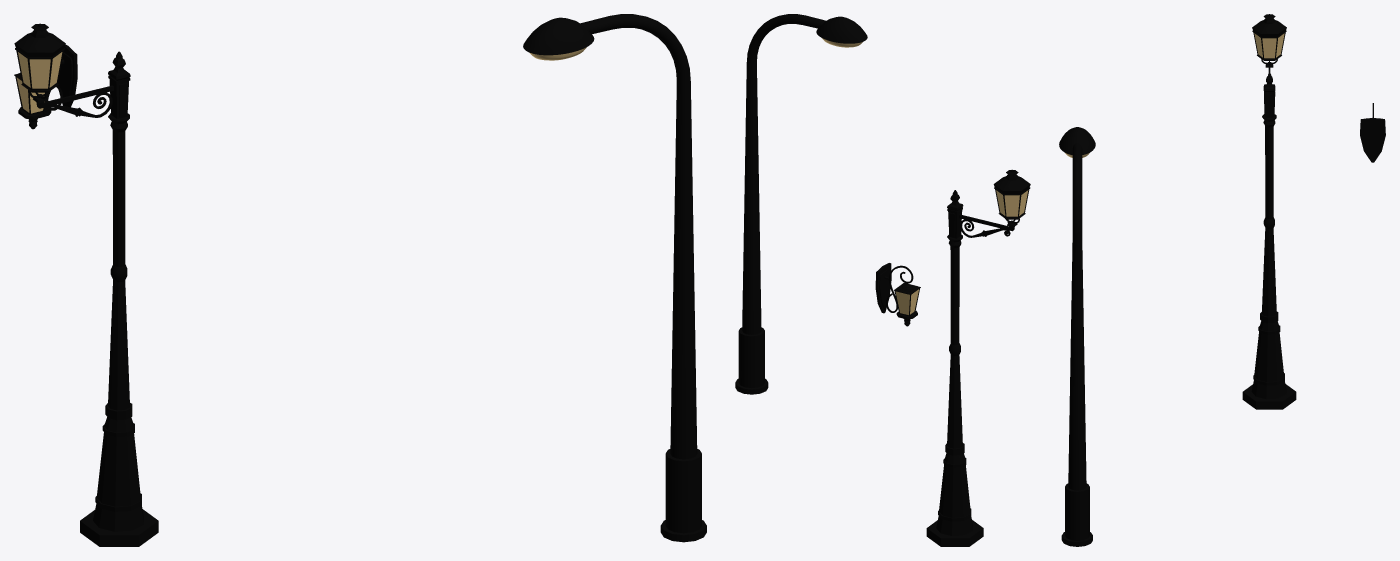
Rendered from lyktor.gltf.
The picture shows the model from 3 angles, left to right: view 1: azimuth 30°, elevation 25°; view 2: azimuth 150°, elevation 25°; view 3: azimuth 270°, elevation 25°; orthographic projection. The views are drawn at different scales.
Visible parts, largest first — view 1: FarolaDe1, FarolaModernaRodonaDe1, FarolaPared1; view 2: FarolaDe1, FarolaModernaRodonaDe1, FarolaPared1; view 3: FarolaModernaRodonaDe1, FarolaDe1, FarolaPared1.
Boxes of the visible parts, <box> form: FarolaDe1: <box>14,23,158,546</box>; FarolaModernaRodonaDe1: <box>523,14,706,542</box>; FarolaPared1: <box>14,44,77,129</box>; FarolaDe1: <box>926,169,1030,546</box>; FarolaModernaRodonaDe1: <box>735,14,867,394</box>; FarolaPared1: <box>875,263,920,326</box>; FarolaModernaRodonaDe1: <box>1059,127,1095,546</box>; FarolaDe1: <box>1242,14,1296,409</box>; FarolaPared1: <box>1360,103,1385,162</box>.
Size of the model in its own units: 3.29 by 3.16 by 2.53.
